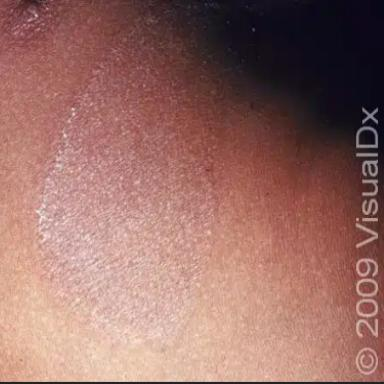Tinea-Corporis: (38, 1, 221, 344), (8, 0, 51, 41)
